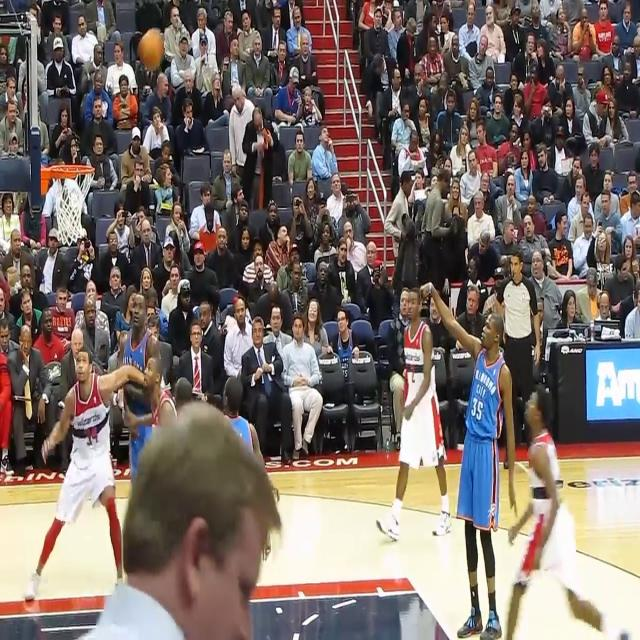ball: (137, 28, 165, 68)
